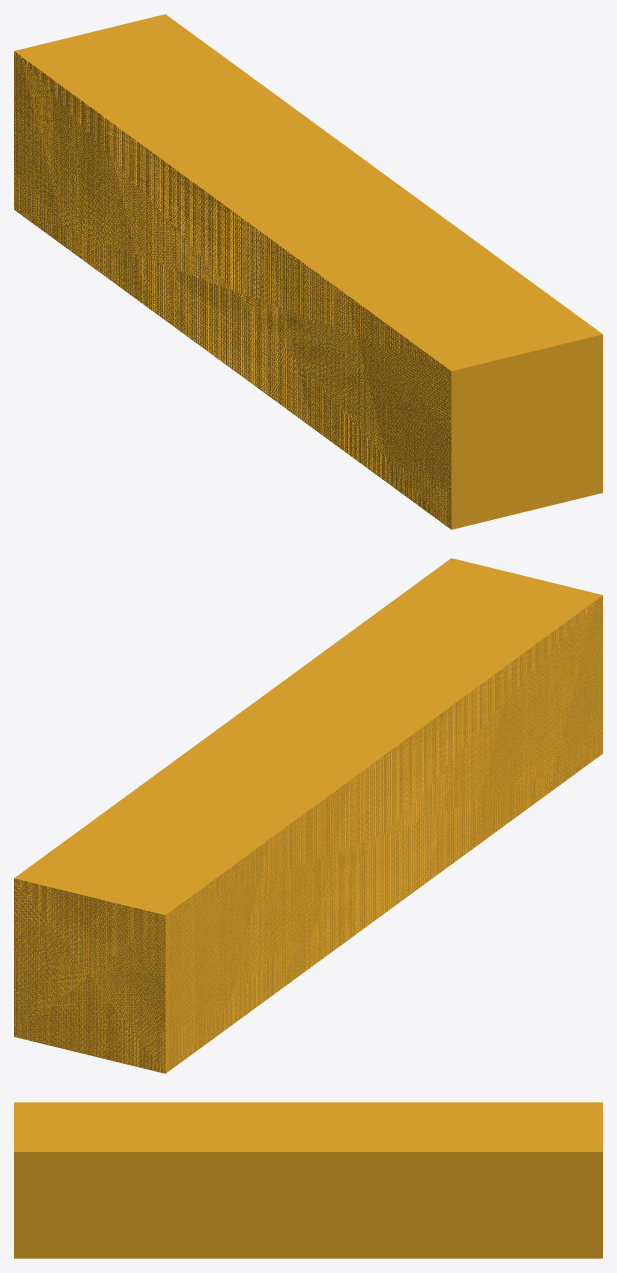
Rendered from torpido_ida0.glb.
3 views of the same model, one above another, from view 1: azimuth 30°, elevation 25°; view 2: azimuth 150°, elevation 25°; view 3: azimuth 270°, elevation 25° (orthographic). The views are drawn at different scales.
Visible parts, largest first — view 1: torpido, COL_torpido; view 2: torpido, COL_torpido; view 3: torpido, COL_torpido.
Boxes of the visible parts, left/top/right/bottom form: torpido: left=14, top=14, right=602, bottom=529; COL_torpido: left=14, top=14, right=600, bottom=528; torpido: left=14, top=558, right=602, bottom=1073; COL_torpido: left=14, top=558, right=602, bottom=1073; torpido: left=14, top=1102, right=602, bottom=1258; COL_torpido: left=14, top=1102, right=602, bottom=1151.
Size of the model in its own units: 0.04 by 0.04 by 0.2.
